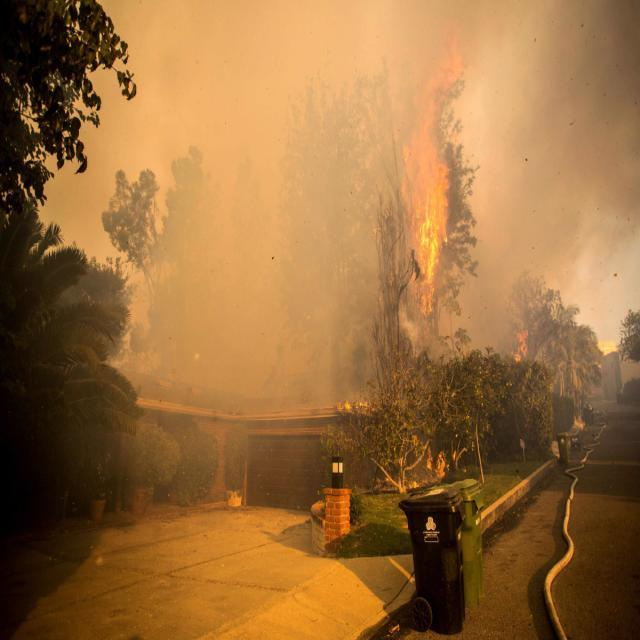Fire: (400, 76, 448, 330), (403, 443, 454, 488)
Smoke: (168, 18, 370, 434), (474, 34, 634, 346)
